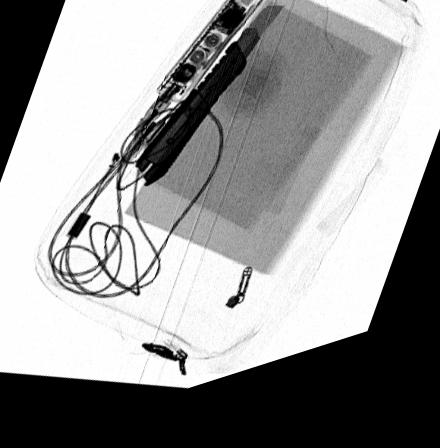Knife: (134, 21, 286, 195)
